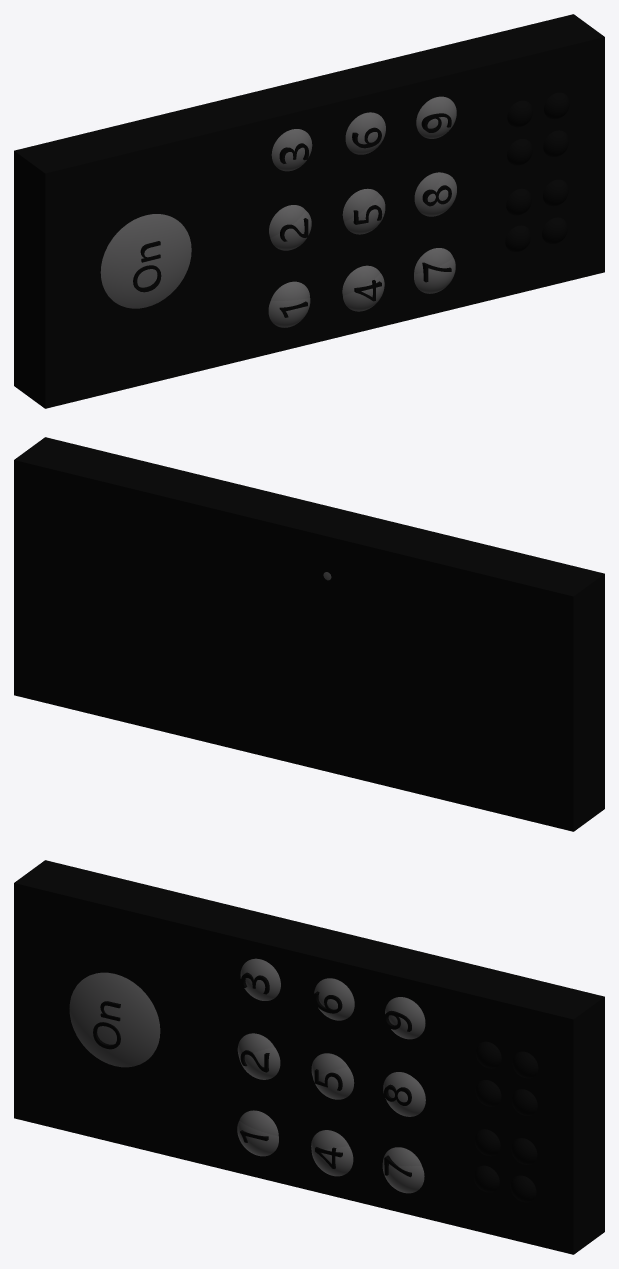
File: remote.fbx
3 renders of one model, top to bottom at view 1: azimuth 30°, elevation 25°; view 2: azimuth 150°, elevation 25°; view 3: azimuth 330°, elevation 25°, orthographic.
Parts seen in each view (by area): view 1: root (×24), node_id300, node_id274, node_id239, node_id312; view 2: root; view 3: root (×23), node_id274, node_id300, node_id239, node_id312.
Boxes of the visible parts, <box> form: root (×24): <box>14,14,604,408</box>; node_id300: <box>421,113,451,282</box>; node_id274: <box>352,127,382,301</box>; node_id239: <box>279,143,308,317</box>; node_id312: <box>133,241,161,292</box>; root: <box>14,437,604,831</box>; root (×23): <box>14,860,604,1254</box>; node_id274: <box>314,991,342,1168</box>; node_id300: <box>383,1010,411,1177</box>; node_id239: <box>240,972,269,1142</box>; node_id312: <box>93,1001,120,1049</box>.
Bounding box in the file's own units: 0.2013 × 0.0809 × 0.0228.
32 materials, 28 textured.
